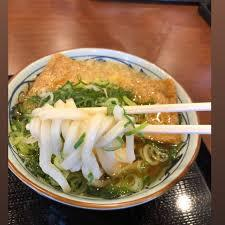kitune: (5, 50, 205, 203)
